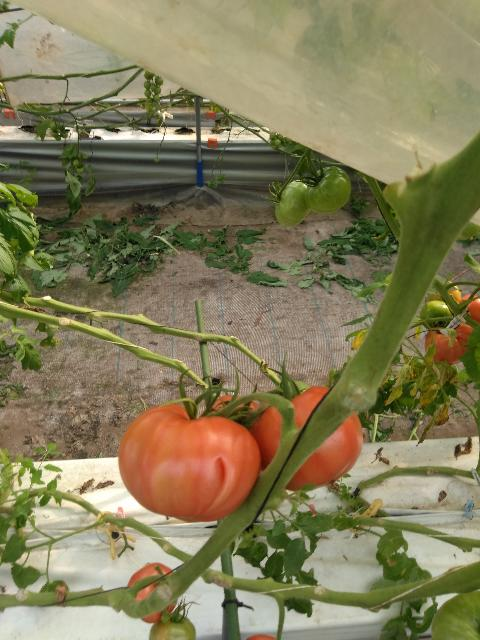b_fully_ripened: (251, 385, 363, 491)
b_green: (430, 591, 480, 640), (304, 167, 352, 215), (274, 180, 310, 226), (149, 612, 196, 640), (419, 301, 455, 331)
b_half_ripened: (117, 403, 262, 523), (127, 563, 179, 623), (425, 322, 476, 365)
